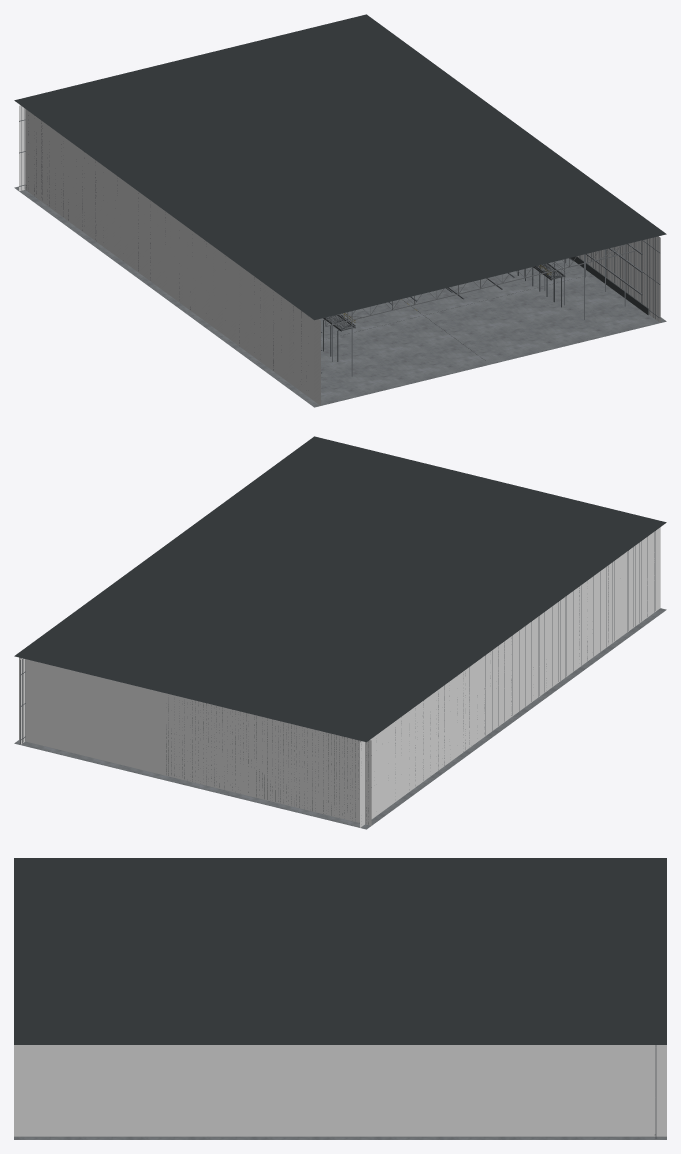
3 views of the same model, one above another, from view 1: azimuth 30°, elevation 25°; view 2: azimuth 150°, elevation 25°; view 3: azimuth 270°, elevation 25° (orthographic). The views are drawn at different scales.
Visible parts, largest first — view 1: Roof_deck, Floor_polished_concrete, Side_wall_left, Side_wall_right, Side_wall_right_ribs, Roof_steel_trusses, Hangar_columns, Back_wall, Right_wall_dado; view 2: Roof_deck, Back_wall, Side_wall_left, Floor_polished_concrete, Side_wall_left_ribs, Back_wall_ribs; view 3: Roof_deck, Side_wall_right, Floor_polished_concrete.
Part boxes in pixels (<box>): Roof_deck: <box>14,14,666,320</box>; Floor_polished_concrete: <box>14,186,666,407</box>; Side_wall_left: <box>25,109,320,405</box>; Side_wall_right: <box>578,236,660,322</box>; Side_wall_right_ribs: <box>577,237,660,321</box>; Roof_steel_trusses: <box>325,244,635,326</box>; Hangar_columns: <box>321,243,642,376</box>; Back_wall: <box>19,105,25,191</box>; Right_wall_dado: <box>570,256,648,315</box>; Roof_deck: <box>14,436,666,742</box>; Back_wall: <box>19,657,371,825</box>; Side_wall_left: <box>360,527,660,827</box>; Floor_polished_concrete: <box>14,608,666,829</box>; Side_wall_left_ribs: <box>359,531,655,789</box>; Back_wall_ribs: <box>166,701,371,824</box>; Roof_deck: <box>14,858,666,1044</box>; Side_wall_right: <box>14,1045,666,1136</box>; Floor_polished_concrete: <box>14,1136,666,1139</box>.
Size of the model in its own units: 82 by 19.92 by 121.
77 materials, 22 textured.
